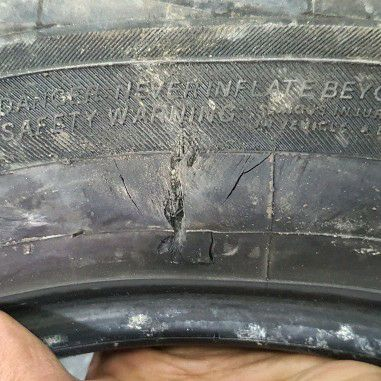cut: (157, 141, 200, 252), (223, 150, 276, 201), (207, 230, 215, 268)
